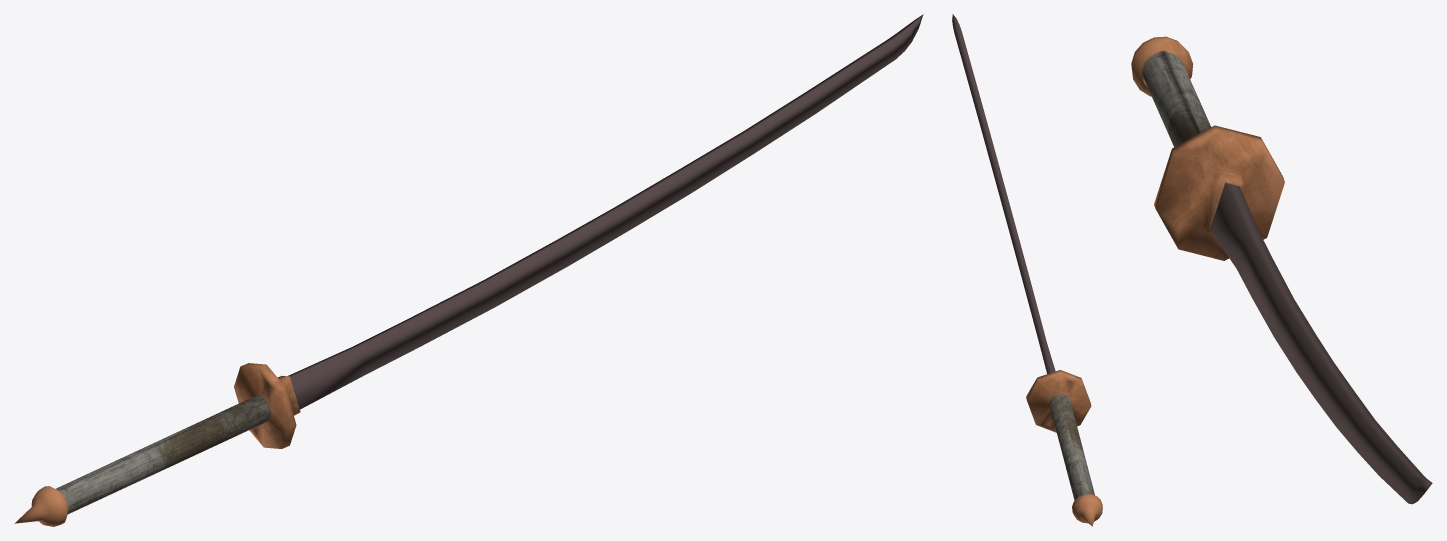
File: Anim_idle_katana_objetos.0048.obj
3 renders of one model, left to right at view 1: azimuth 90°, elevation 25°; view 2: azimuth 150°, elevation 25°; view 3: azimuth 330°, elevation 25°, orthographic. The views are drawn at different scales.
Visible parts, largest first — view 1: Katana1; view 2: Katana1; view 3: Katana1.
Boxes of the visible parts, box(x1,y1,x2,y2) form: Katana1: box(15, 14, 923, 526); Katana1: box(952, 14, 1102, 526); Katana1: box(1131, 36, 1432, 504).
Bounding box in the file's own units: 3.33 × 1.04 × 4.09.
